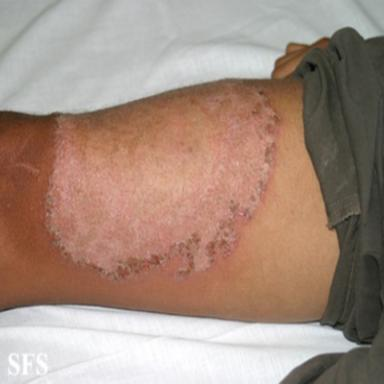Tinea-Corporis: (45, 81, 280, 280)
